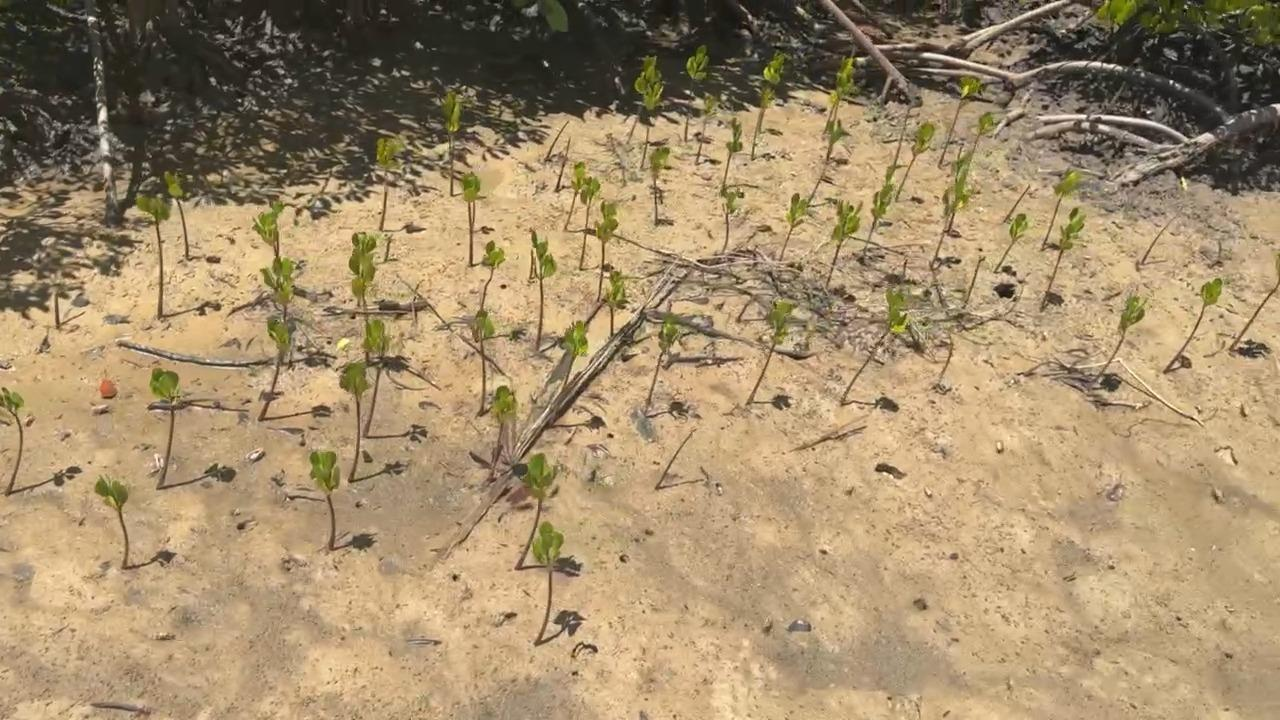Tree: (841, 287, 910, 404), (746, 300, 800, 404), (645, 313, 700, 413), (1163, 279, 1222, 372), (514, 452, 560, 568), (1229, 255, 1280, 349), (1040, 209, 1085, 312), (929, 158, 972, 264), (135, 194, 171, 318), (807, 118, 853, 206), (532, 521, 564, 646), (939, 75, 979, 168), (1100, 293, 1145, 375), (95, 474, 133, 570), (150, 368, 179, 489), (1040, 168, 1082, 248), (258, 316, 290, 420), (341, 364, 369, 482), (626, 54, 662, 144), (896, 121, 935, 203), (310, 451, 342, 550), (865, 163, 898, 256), (531, 228, 556, 349), (0, 386, 26, 495), (829, 201, 864, 281), (822, 56, 858, 131), (364, 321, 387, 437), (683, 46, 710, 141), (349, 230, 376, 321), (490, 385, 515, 482), (163, 170, 190, 259), (378, 138, 404, 230), (259, 255, 295, 321), (655, 428, 694, 488), (992, 212, 1028, 275), (474, 309, 495, 415), (641, 82, 666, 171), (752, 89, 782, 159), (760, 54, 786, 132), (780, 194, 810, 261), (562, 320, 589, 393), (444, 90, 462, 196), (462, 174, 482, 266), (251, 201, 283, 258), (480, 240, 506, 310), (580, 178, 600, 269), (648, 146, 671, 225), (563, 161, 587, 230), (695, 92, 718, 164), (722, 116, 744, 190), (596, 199, 619, 269), (1141, 216, 1174, 264), (969, 111, 994, 170), (606, 269, 627, 337), (720, 191, 740, 253), (1004, 184, 1034, 222), (965, 255, 987, 304), (544, 120, 571, 157), (597, 262, 614, 301), (380, 230, 394, 261), (554, 161, 564, 191), (53, 289, 61, 326)
